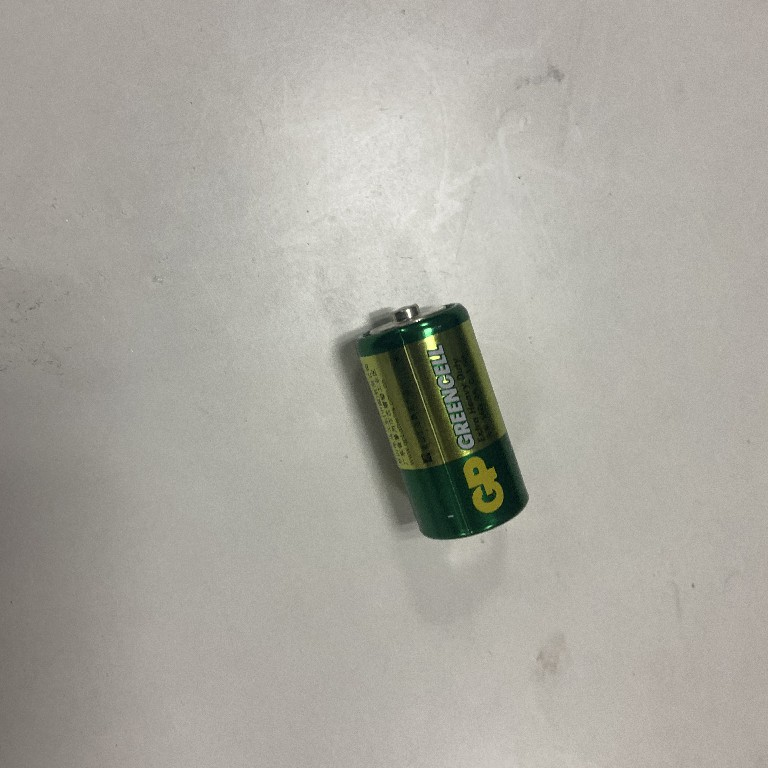charge: (355, 297, 533, 543)
